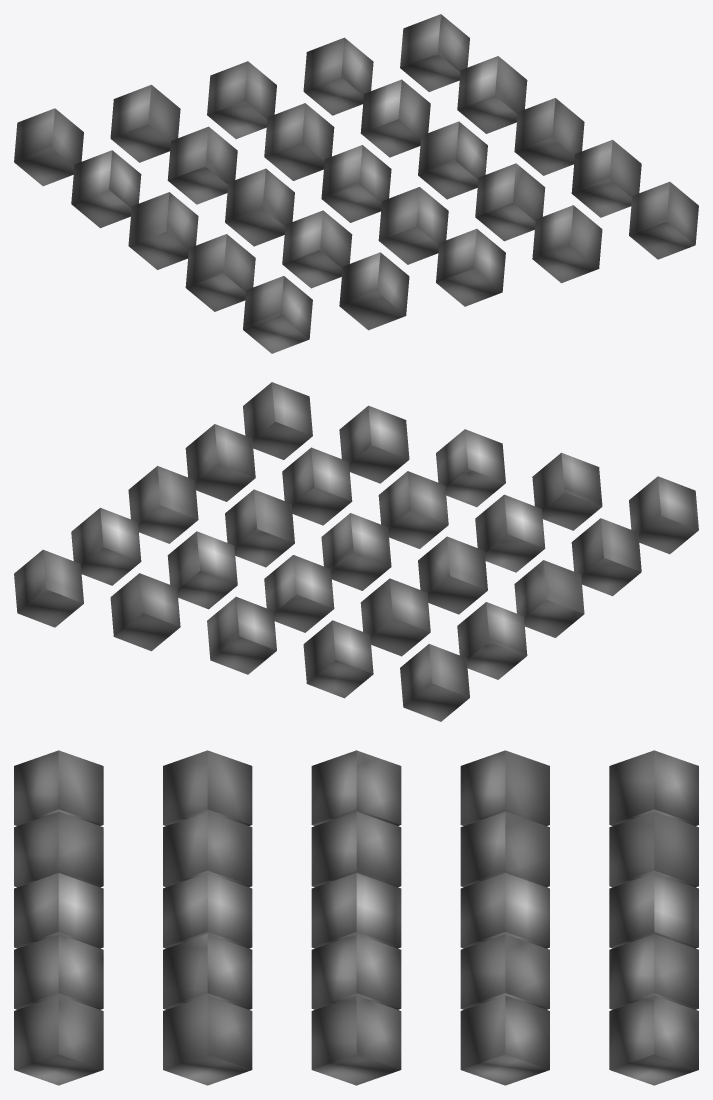
File: Vegetable-Patch-01.fbx
The picture shows the model from 3 angles, top to bottom: view 1: azimuth 30°, elevation 25°; view 2: azimuth 150°, elevation 25°; view 3: azimuth 270°, elevation 25°; orthographic projection. The views are drawn at different scales.
Visible parts, largest first — view 1: Vegetable-Patch; view 2: Vegetable-Patch; view 3: Vegetable-Patch.
Part boxes in pixels (<box>): Vegetable-Patch: <box>14,14,698,353</box>; Vegetable-Patch: <box>14,382,698,721</box>; Vegetable-Patch: <box>14,750,698,1085</box>.
Bounding box in the file's own units: 0.8 × 0.1262 × 0.8.
